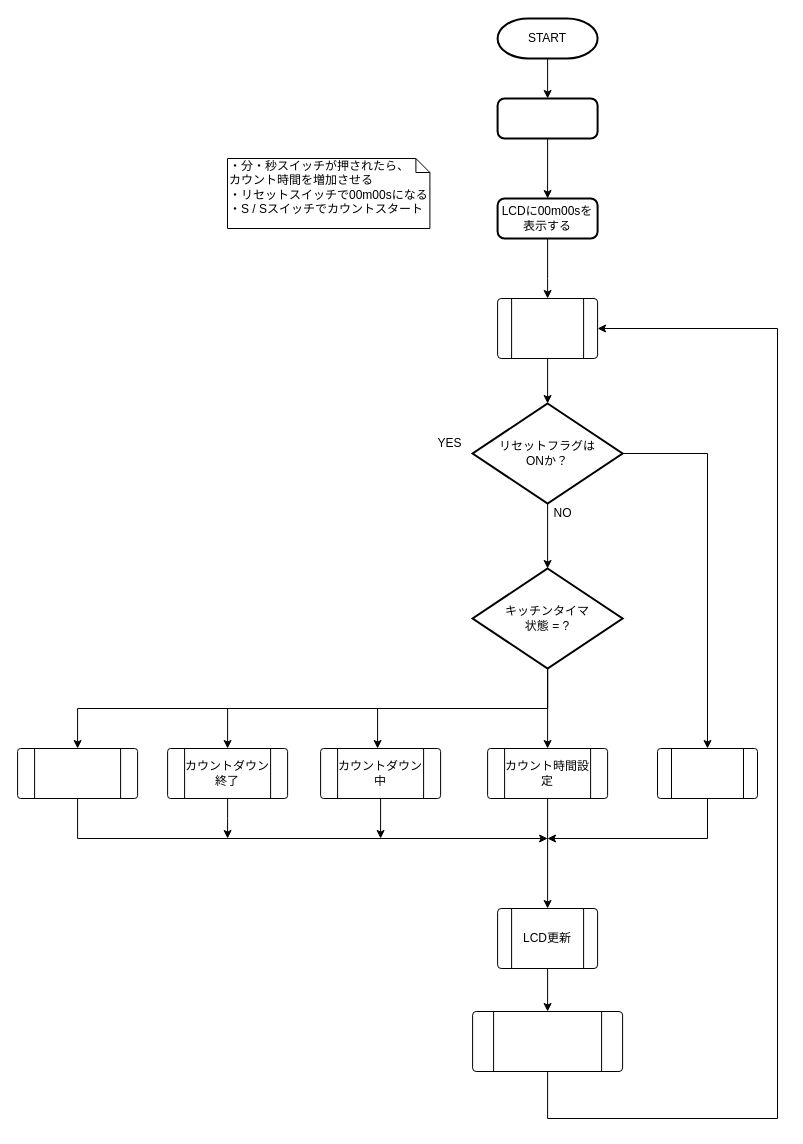
This 803x1144 diagram has some shape labels left out. The shapes that lost their labels are listed below. From the top down, each one's box as (x1, y1, x2, y2) in pixels, then its label:
(496, 97, 598, 139): 電源ON
(497, 298, 598, 358): スイッチ 状態検知
(17, 748, 138, 798): カウントダウン一時停止
(656, 748, 758, 798): リセット 処理
(472, 1010, 623, 1072): ブザー 状態更新
